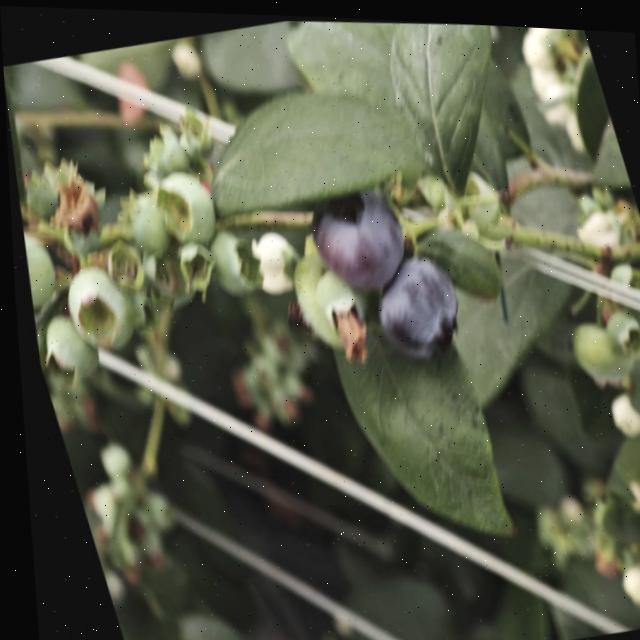RipeBlueBerry: (299, 178, 414, 295), (355, 243, 467, 363)
